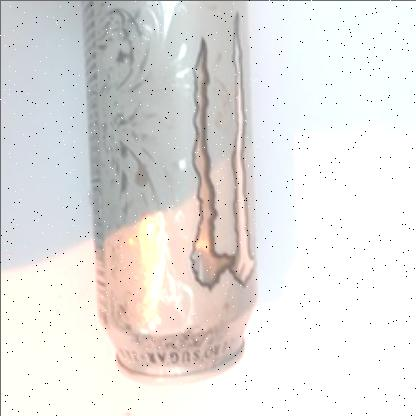Can: (84, 0, 258, 386)
